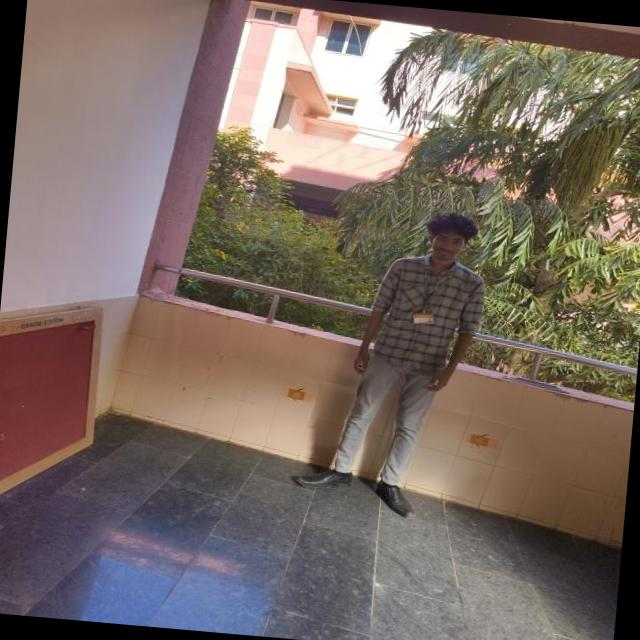id_card: (408, 258, 453, 329)
